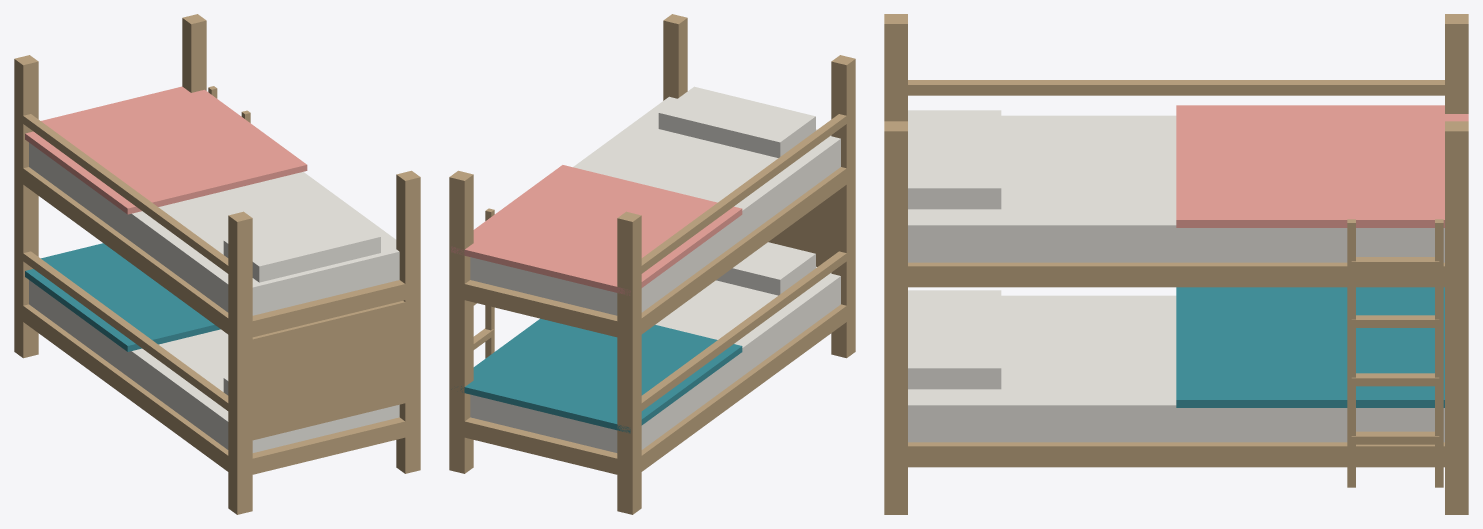
File: bb_set_bunk.fbx
3 views of the same model, side by side, from view 1: azimuth 30°, elevation 25°; view 2: azimuth 150°, elevation 25°; view 3: azimuth 270°, elevation 25° (orthographic). The views are drawn at different scales.
Visible parts, largest first — view 1: bb_set_bunk; view 2: bb_set_bunk; view 3: bb_set_bunk.
Boxes of the visible parts, x1=… form: bb_set_bunk: x1=14, y1=14, x2=420, y2=514; bb_set_bunk: x1=449, y1=14, x2=855, y2=514; bb_set_bunk: x1=884, y1=14, x2=1468, y2=514.
Size of the model in its own units: 0.99 by 1.45 by 2.
